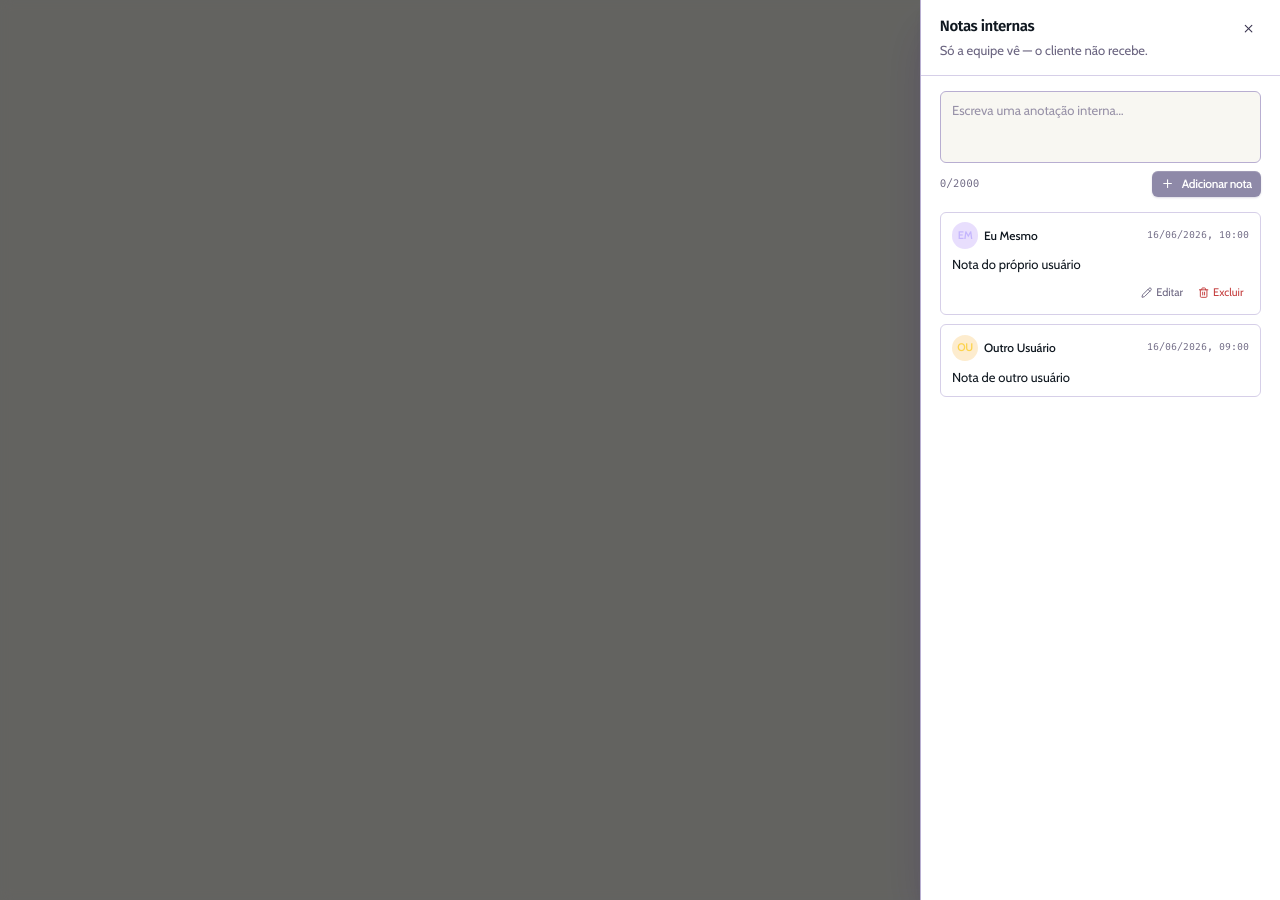
it: NotasInternasDrawer › digitar no textarea habilita o botão Adicionar nota
The image size is (1280, 900).
Type "Nova anotação" into the text box with test id "inbox-nota-input". click: (1101, 127)
box: [940, 91, 1261, 163]
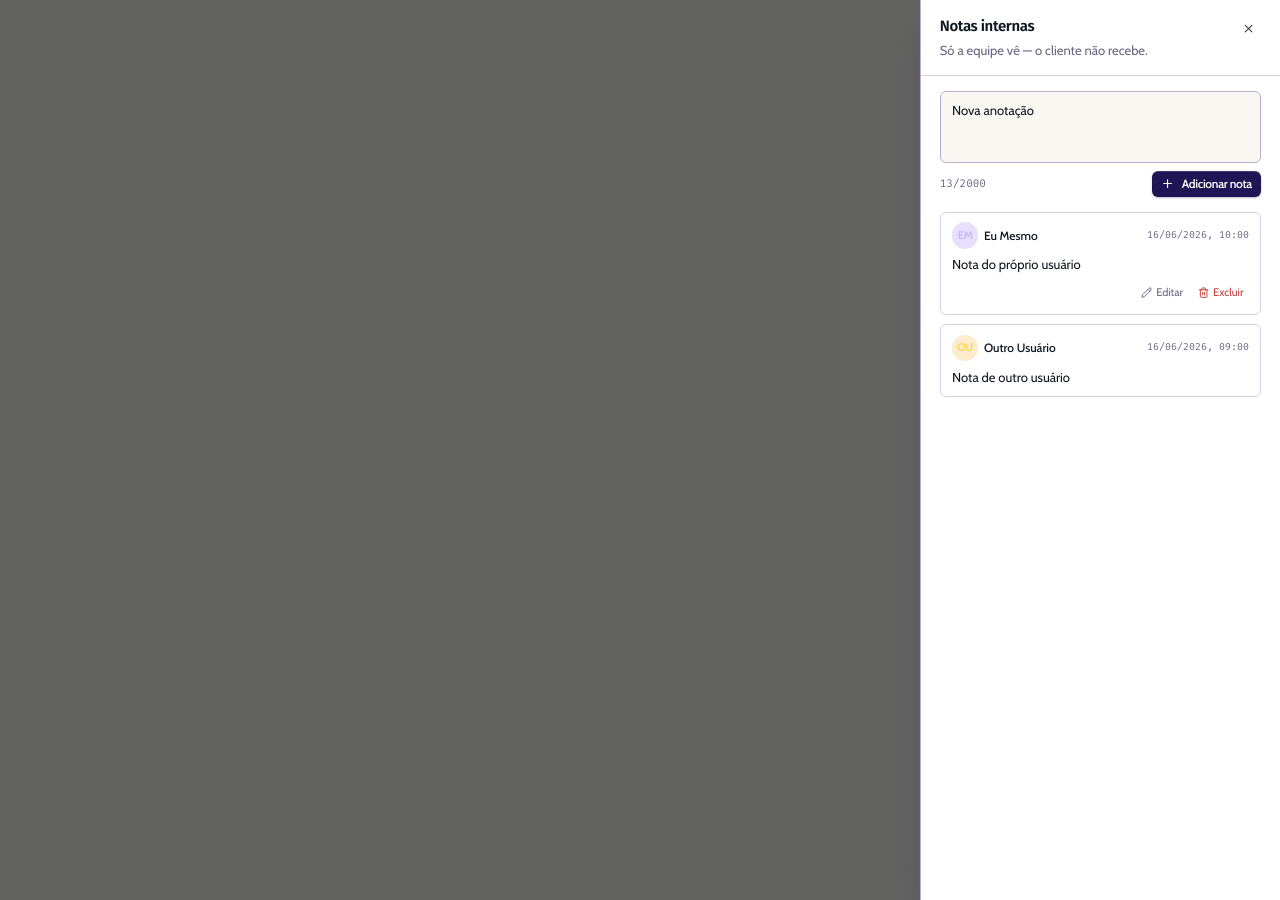
expect the button with test id "inbox-nota-add-btn" is enabled: met, box [1152, 171, 1261, 197]
